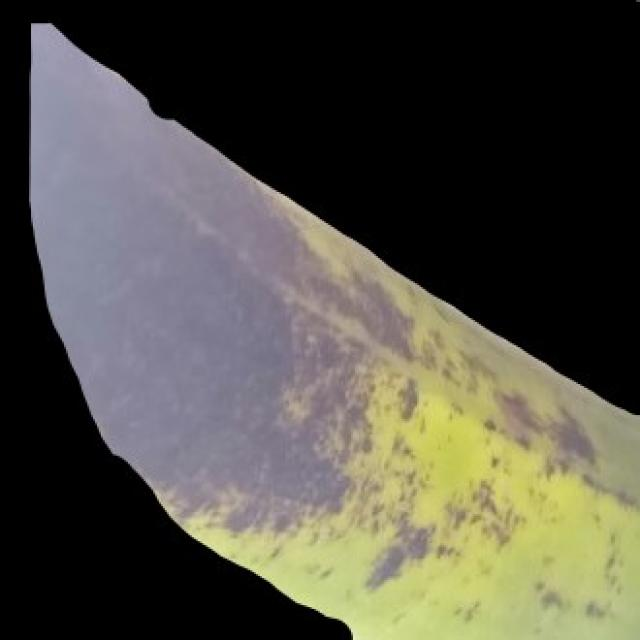mite: (363, 485, 638, 638), (355, 368, 529, 590), (528, 524, 634, 623), (528, 574, 613, 623), (444, 590, 489, 628), (394, 374, 419, 421), (531, 578, 564, 613), (320, 613, 353, 638), (452, 595, 481, 623), (582, 595, 609, 619), (537, 588, 562, 611), (481, 415, 496, 431)
